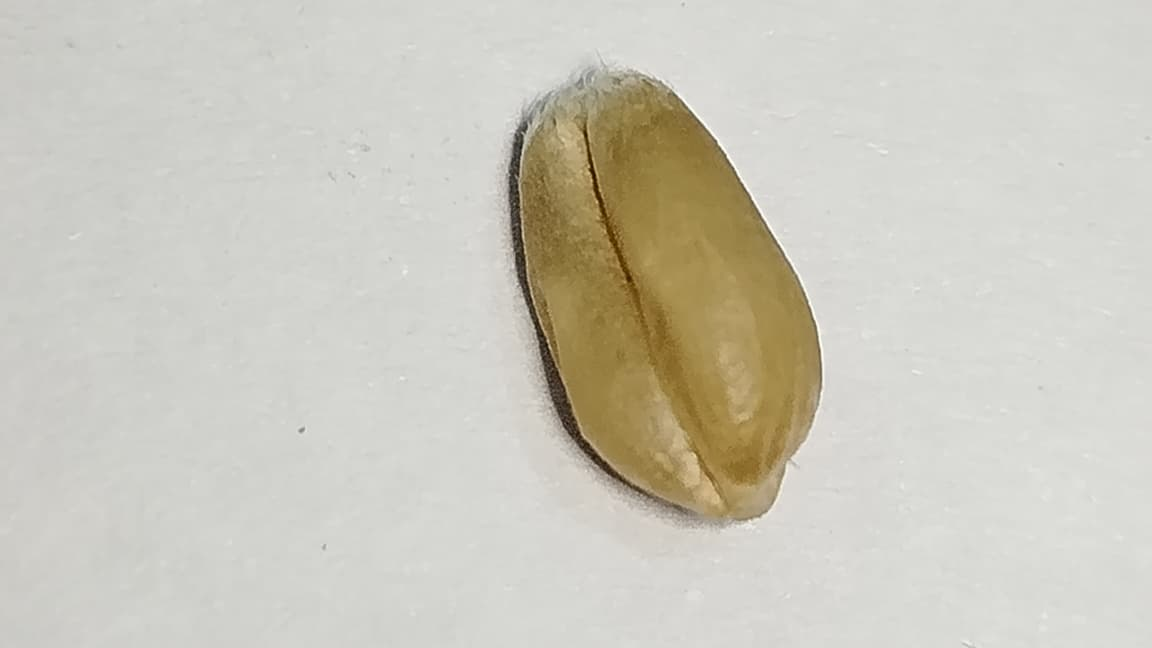healthy: (520, 68, 820, 518)
